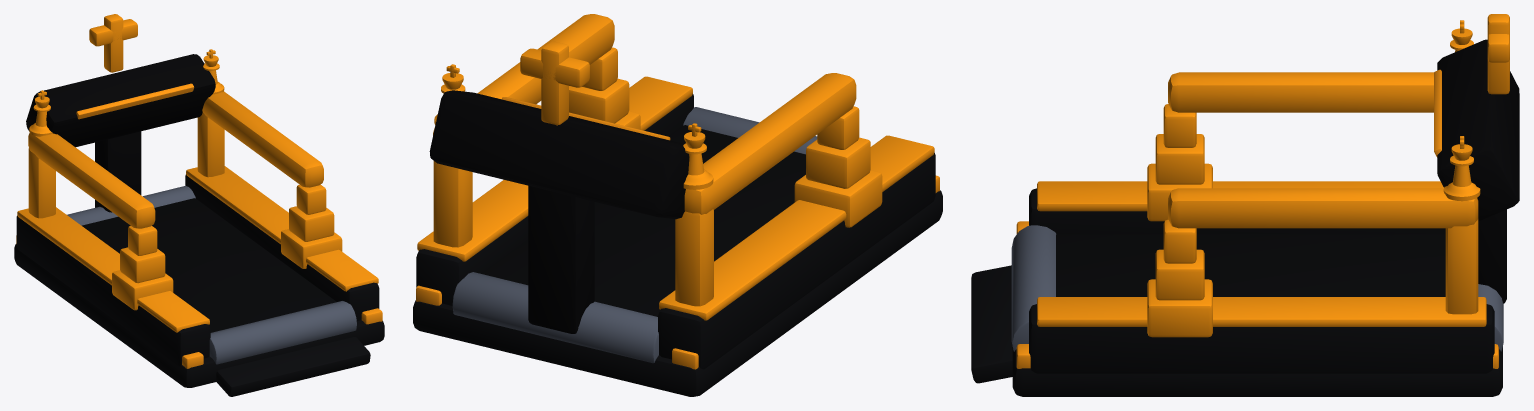
The model's file is KingsEndgame.obj.
3 renders of one model, left to right at view 1: azimuth 30°, elevation 25°; view 2: azimuth 150°, elevation 25°; view 3: azimuth 270°, elevation 25°, orthographic. The views are drawn at different scales.
Parts seen in each view (by area): view 1: KingsEndgame_Chassis, KingsEndgame_Trim, KingsEndgame_Belt, KingsEndgame_Rail, KingsEndgame_Console, KingsEndgame_Steel, KingsEndgame_Screen; view 2: KingsEndgame_Chassis, KingsEndgame_Trim, KingsEndgame_Console, KingsEndgame_Rail, KingsEndgame_Belt, KingsEndgame_Steel, KingsEndgame_Screen; view 3: KingsEndgame_Chassis, KingsEndgame_Trim, KingsEndgame_Rail, KingsEndgame_Belt, KingsEndgame_Console, KingsEndgame_Steel, KingsEndgame_Screen.
Boxes of the visible parts, x1=… form: KingsEndgame_Chassis: x1=14, y1=174, x2=384, y2=396; KingsEndgame_Trim: x1=17, y1=14, x2=378, y2=332; KingsEndgame_Belt: x1=82, y1=198, x2=336, y2=332; KingsEndgame_Rail: x1=28, y1=91, x2=323, y2=228; KingsEndgame_Console: x1=26, y1=54, x2=215, y2=212; KingsEndgame_Steel: x1=67, y1=185, x2=356, y2=364; KingsEndgame_Screen: x1=16, y1=83, x2=382, y2=368; KingsEndgame_Chassis: x1=413, y1=94, x2=942, y2=396; KingsEndgame_Trim: x1=417, y1=41, x2=934, y2=320; KingsEndgame_Console: x1=429, y1=90, x2=689, y2=333; KingsEndgame_Rail: x1=433, y1=14, x2=856, y2=306; KingsEndgame_Belt: x1=481, y1=125, x2=805, y2=316; KingsEndgame_Steel: x1=452, y1=107, x2=817, y2=363; KingsEndgame_Screen: x1=416, y1=97, x2=939, y2=369; KingsEndgame_Chassis: x1=971, y1=188, x2=1502, y2=396; KingsEndgame_Trim: x1=1037, y1=14, x2=1509, y2=337; KingsEndgame_Rail: x1=1168, y1=72, x2=1478, y2=314; KingsEndgame_Belt: x1=1056, y1=234, x2=1445, y2=296; KingsEndgame_Console: x1=1437, y1=39, x2=1519, y2=303; KingsEndgame_Steel: x1=1011, y1=225, x2=1503, y2=351; KingsEndgame_Screen: x1=1016, y1=69, x2=1498, y2=368.
Bounding box in the file's own units: 8.3 × 8.64 × 13.42.
